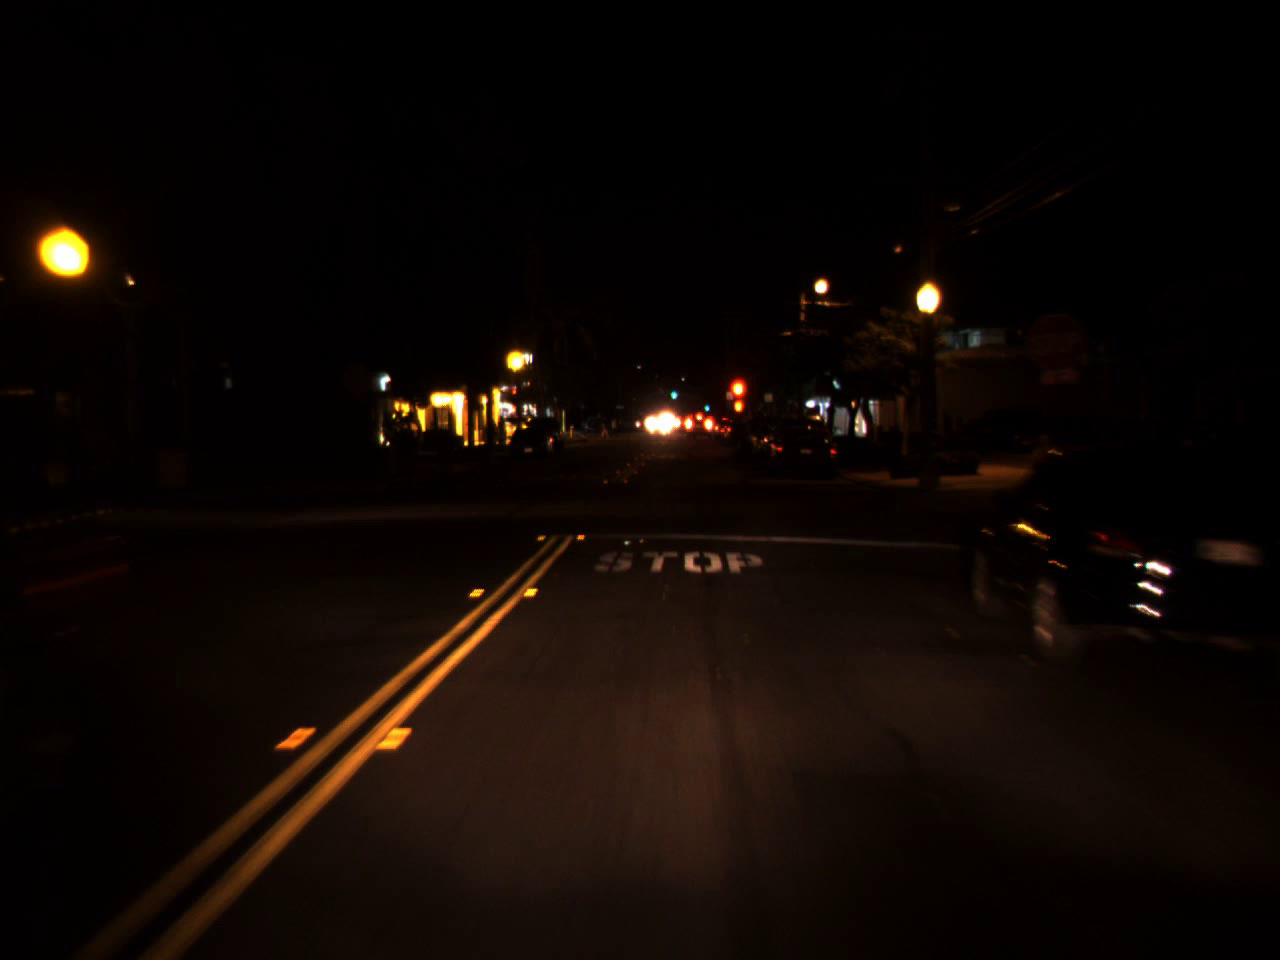go: (670, 383, 677, 401), (702, 396, 711, 411)
stop: (726, 375, 750, 423), (508, 386, 520, 407)
